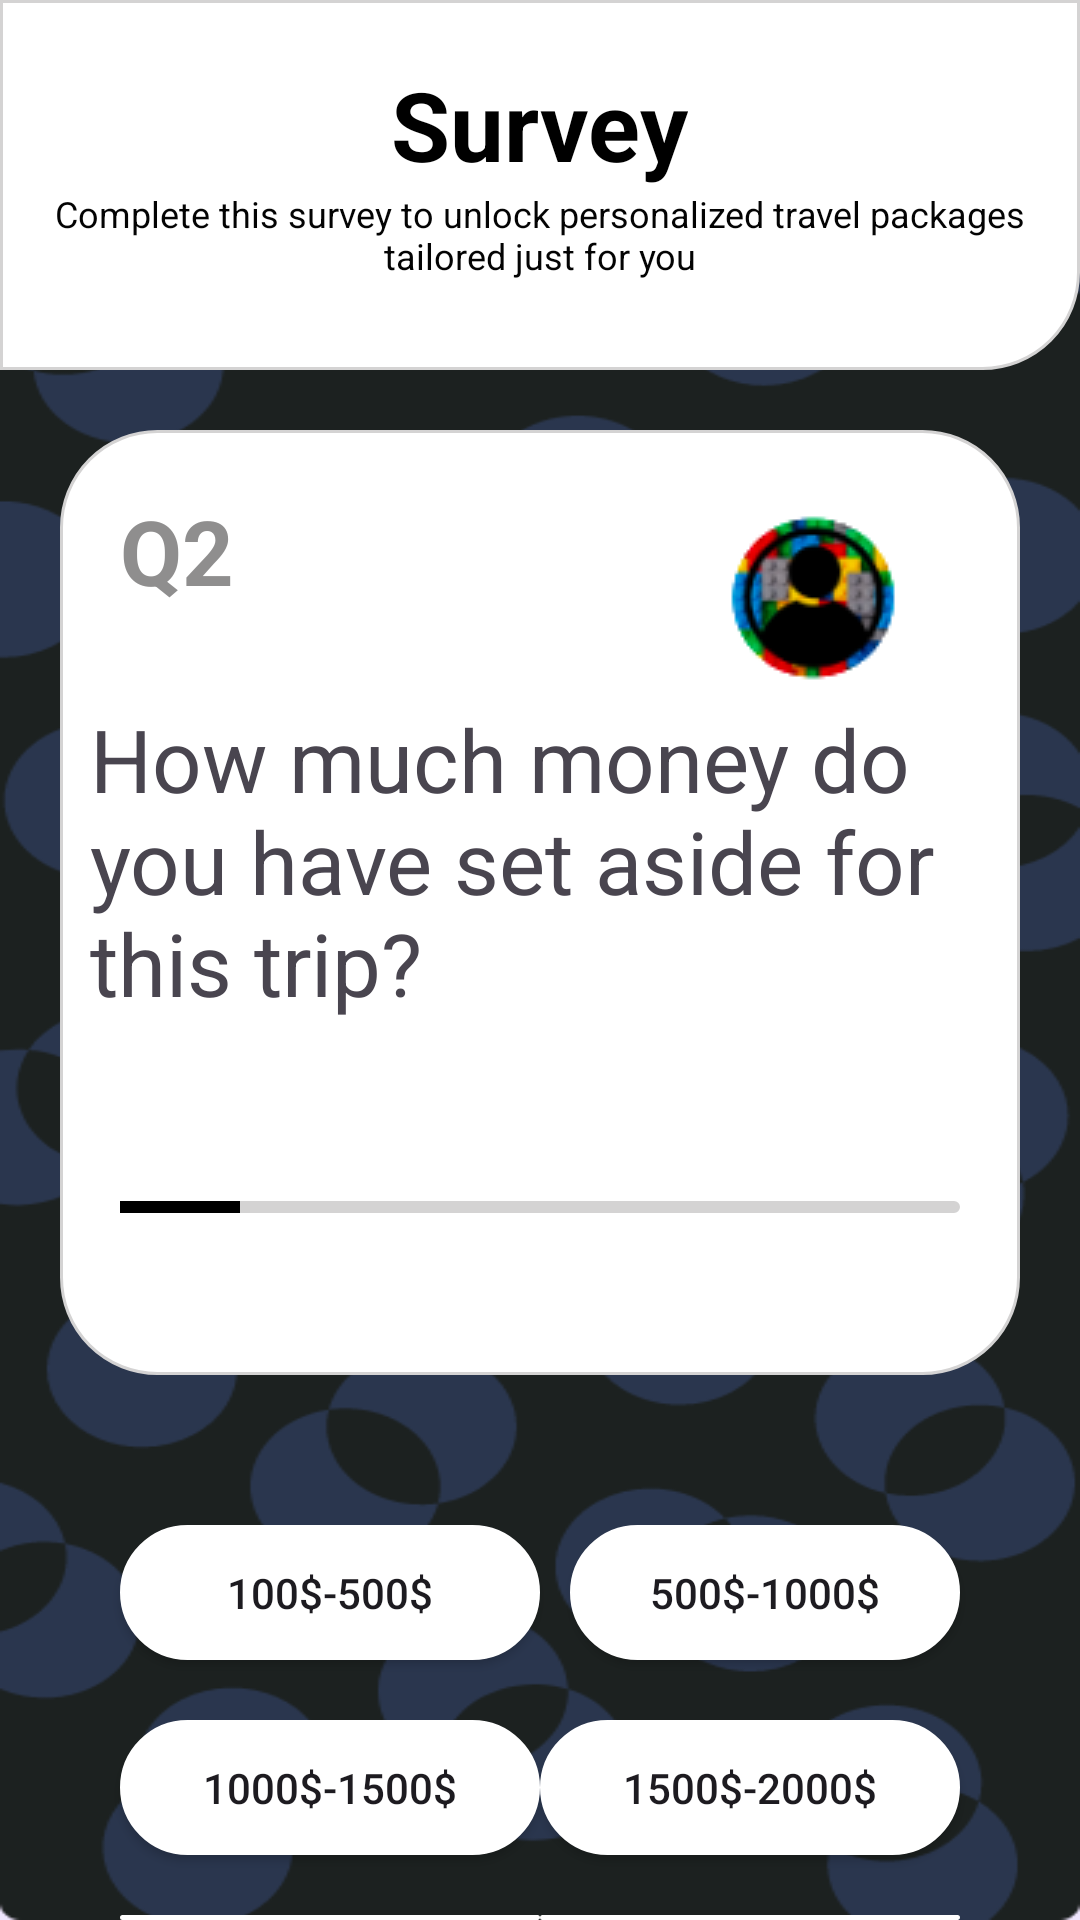

Named icons in this screenshot (1080 × 1920) and their bounding boxes, [x1=x1, y1=y1, x2=x2, y2=y2]:
person: [x1=731, y1=516, x2=895, y2=680]
